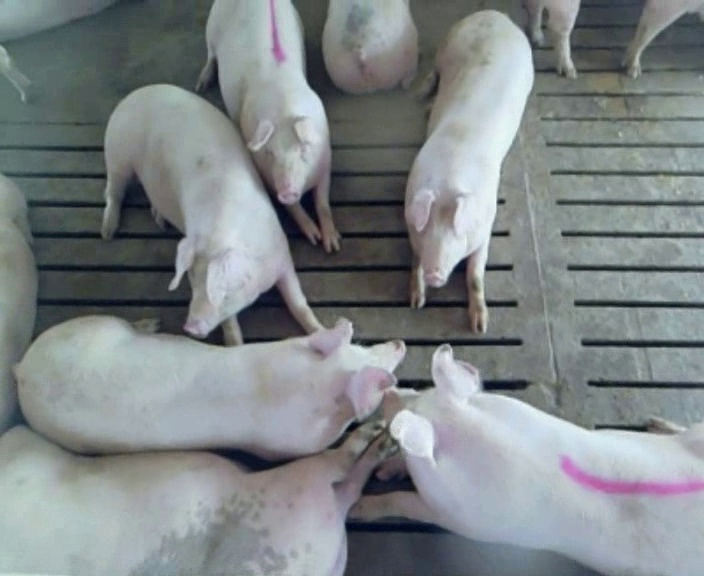pig: (350, 346, 703, 573), (0, 422, 392, 574), (103, 85, 321, 344), (15, 316, 404, 458), (405, 10, 533, 332), (196, 2, 339, 252), (322, 1, 417, 93)
